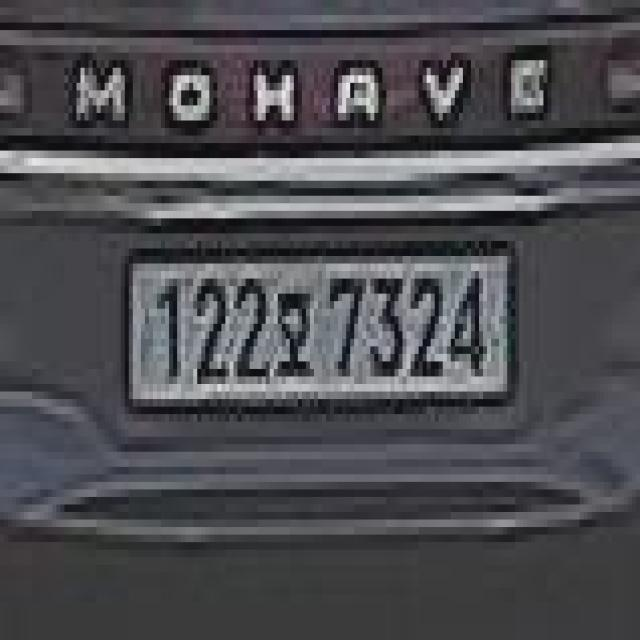illegal_plate: (116, 235, 525, 424)
